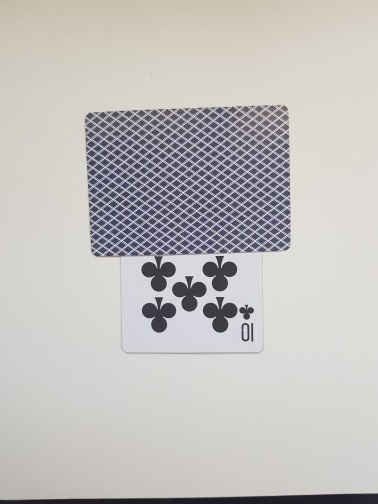ten: (122, 144, 264, 354)
